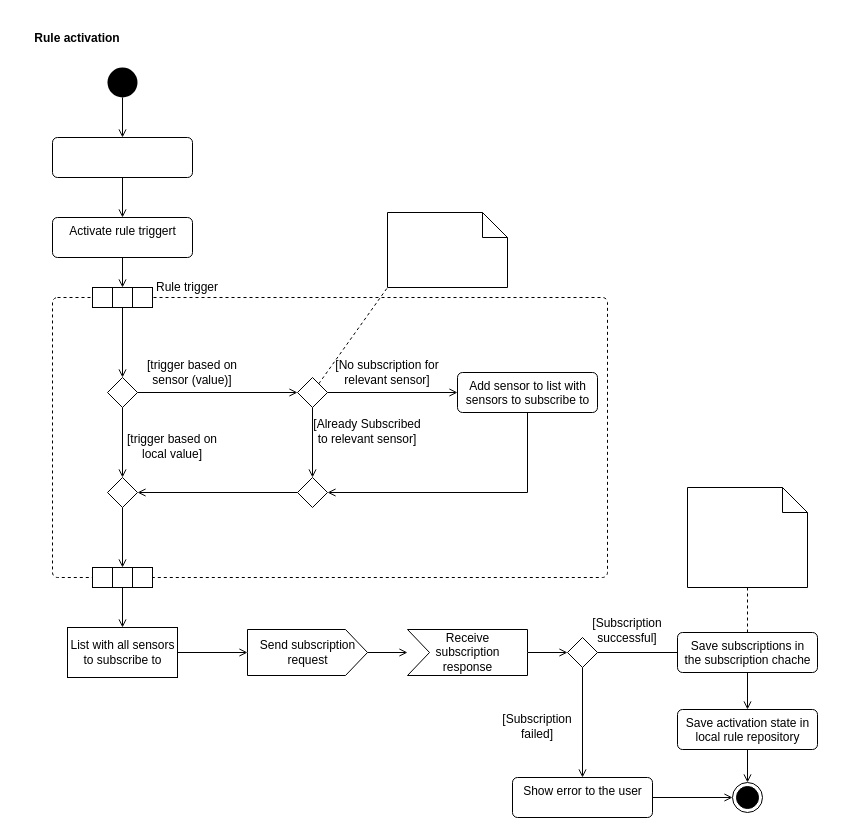
The diagram is 843 pixels wide and 835 high, and some of its shapes have lost their labels. Here are the shapes that lost their labels. From the top down, the box of each, then its label:
(52, 136, 192, 178): Select rule
(386, 212, 508, 288): Validate in subscription cache
(52, 296, 608, 578): <<iterative>>
(686, 486, 808, 588): Chache contains a mapping between subscriptions and all active rules
